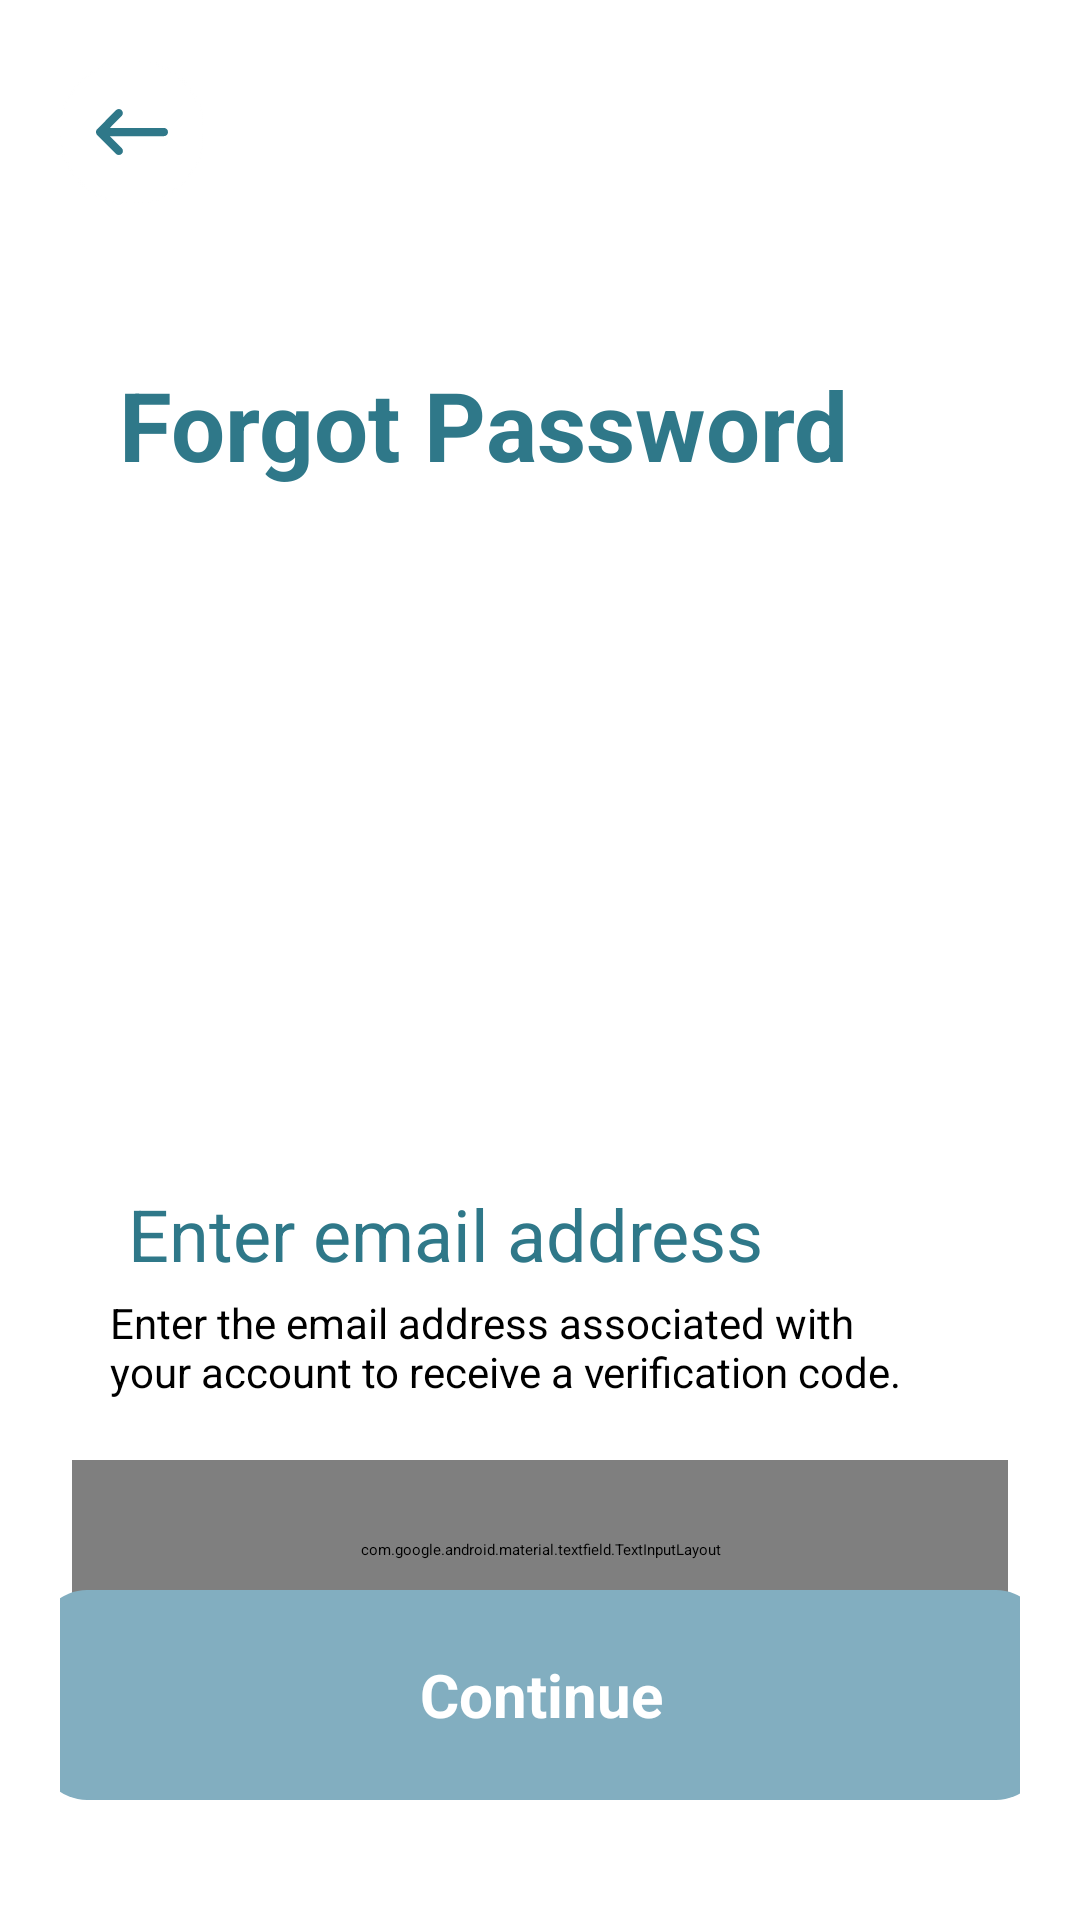

Icon bounding boxes for this 1080px×1920px phone screenshot, format (x1,y1,x2,y2):
back arrorw: (96,109,168,155)
